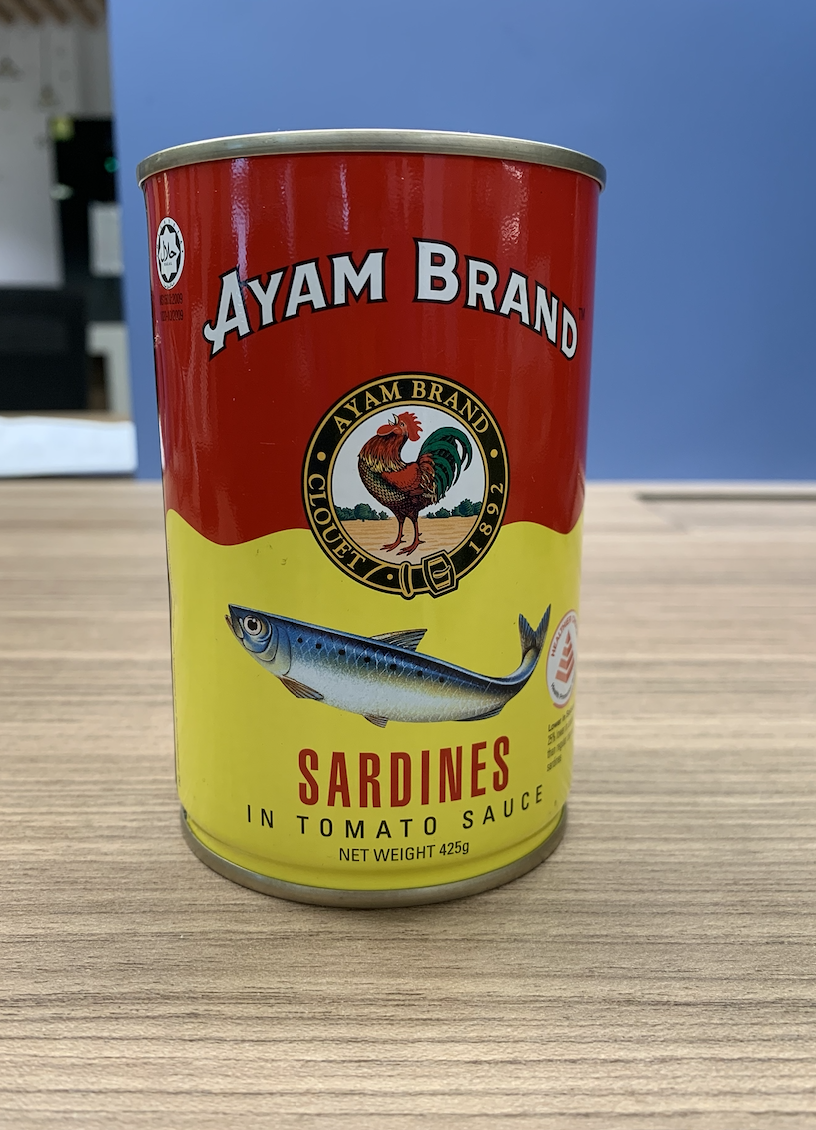sardines_400g-499g: (159, 154, 573, 871)
